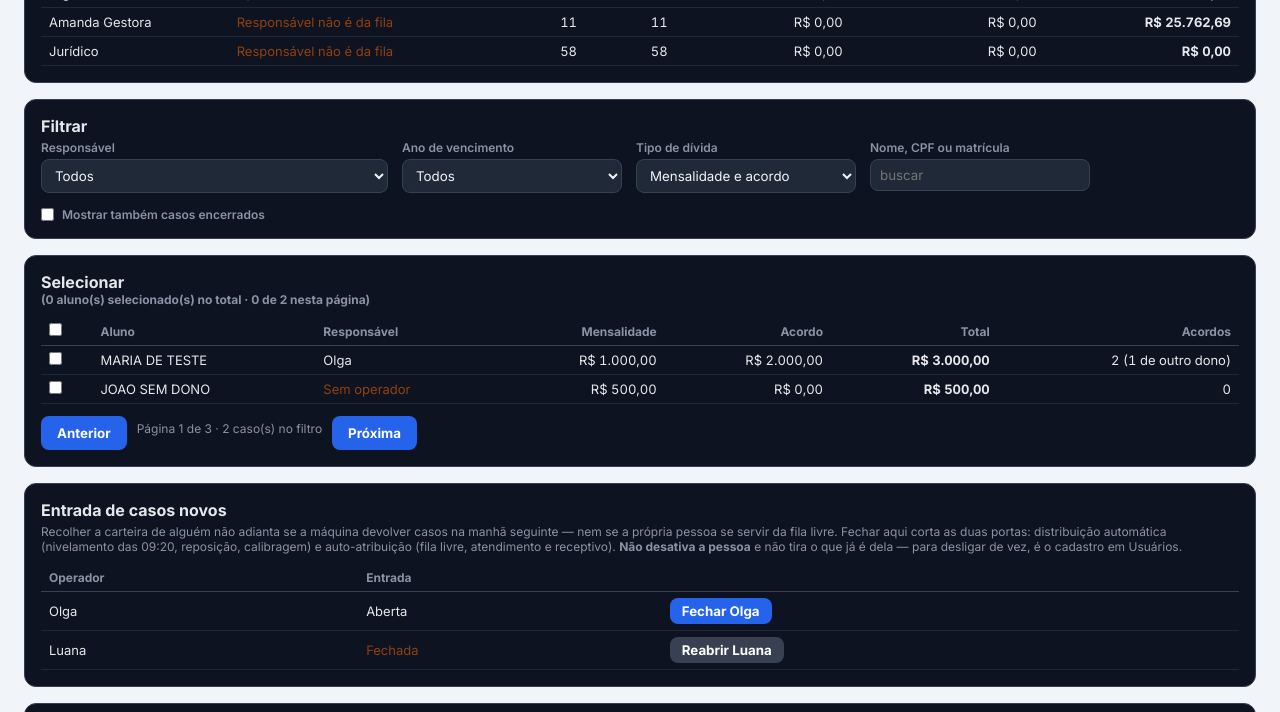
Scenario: Carteira Geral — remanejamento › trocar o destino invalida a prévia já gerada
The image size is (1280, 712).
(page scrolled)
Check: the text "MARIA DE TESTE" is shown, box x1=92 y1=346 x2=315 y2=374
Step 1. Click the checkbox named "Selecionar MARIA DE TESTE" → x=56, y=358, box x1=49 y1=352 x2=62 y2=365
(page scrolled)
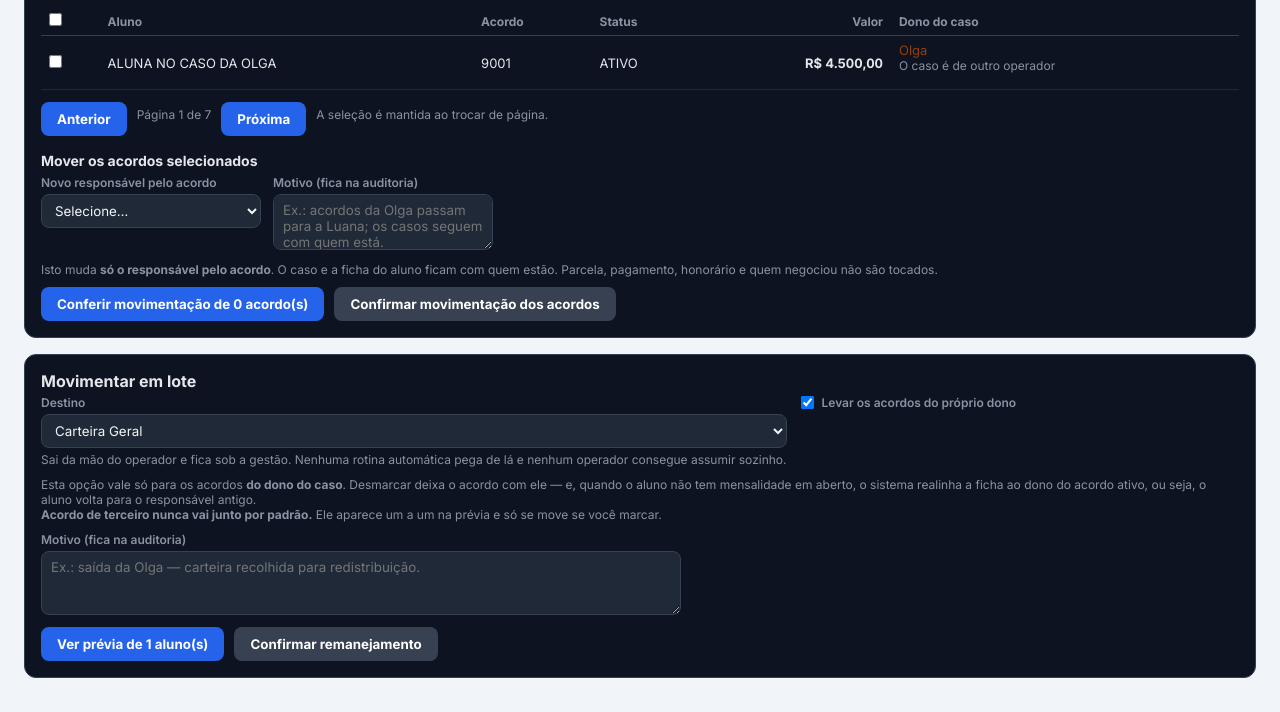
Step 2. Click the button "Ver prévia de 1 aluno(s)" → x=133, y=644, box x1=41 y1=627 x2=224 y2=661
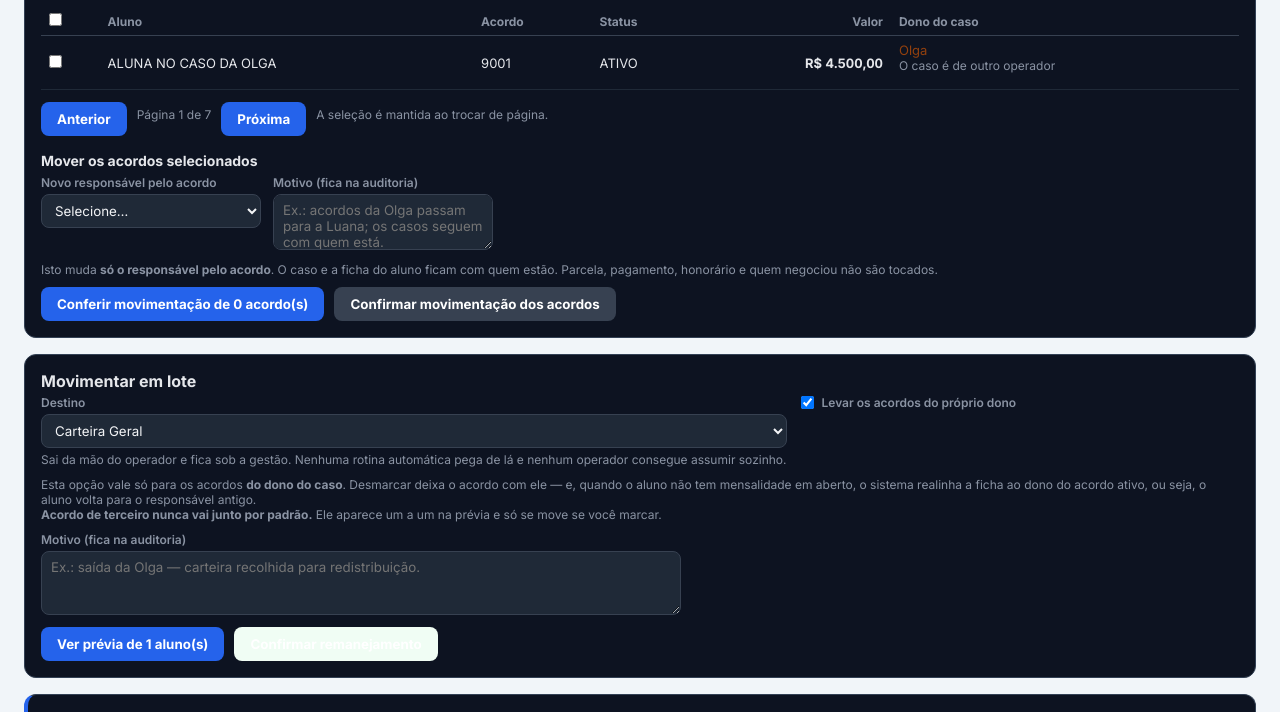
Step 3. Select "Fila livre" in the dropdown showing "Carteira Geral" → x=414, y=431, box x1=41 y1=414 x2=786 y2=448
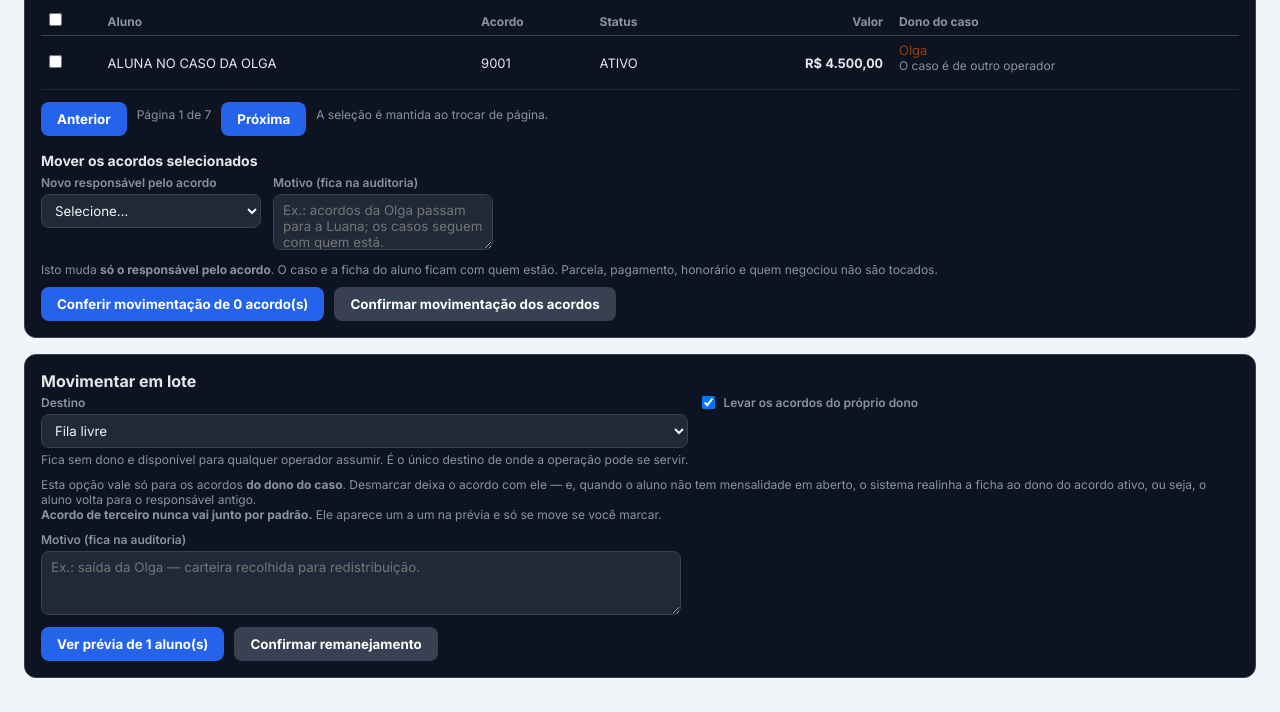
Check: the button "Confirmar remanejamento" is disabled, box x1=234 y1=627 x2=438 y2=661
